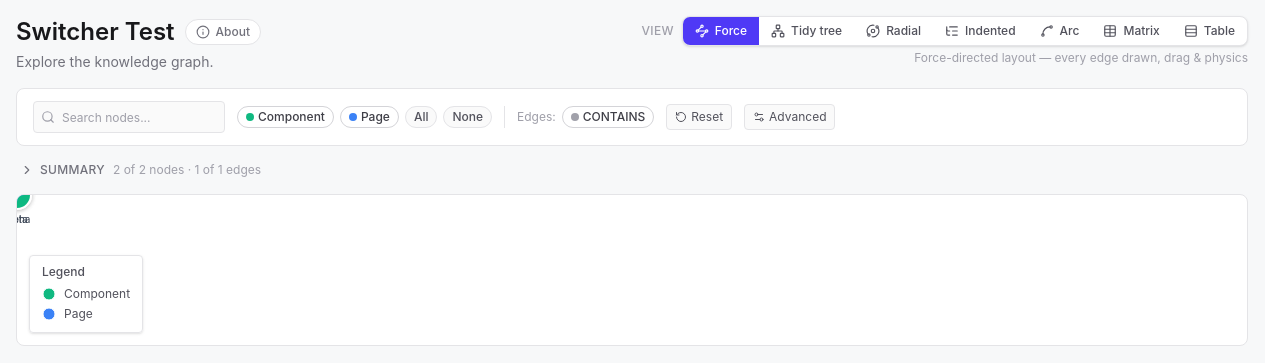
Test: Viewer view switching › switches to the indented tree and hides force-only controls
Click the button "Indented" at {"x": 980, "y": 31}, box [933,17,1028,45]
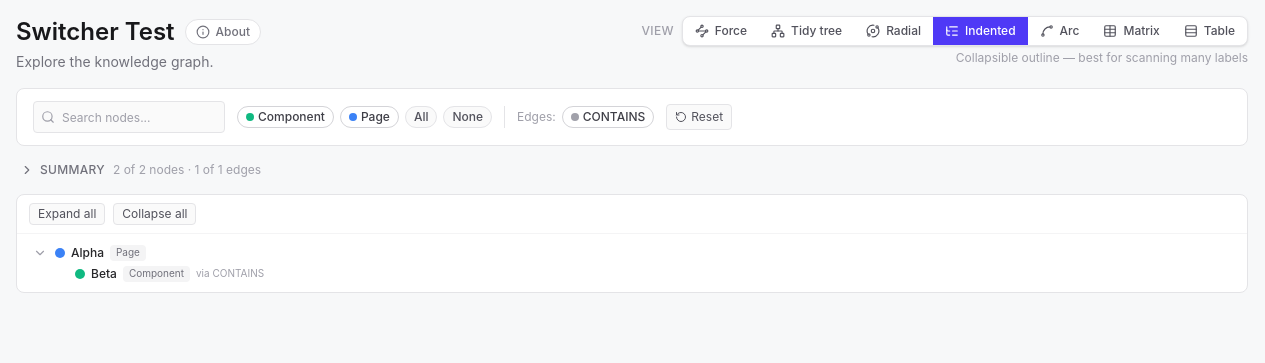
Expected: the text "Alpha" is shown, [71,245,104,261]
Result: the list with test id "indented-tree" is shown at [31,244,264,282]
Result: the button "Advanced" is gone
